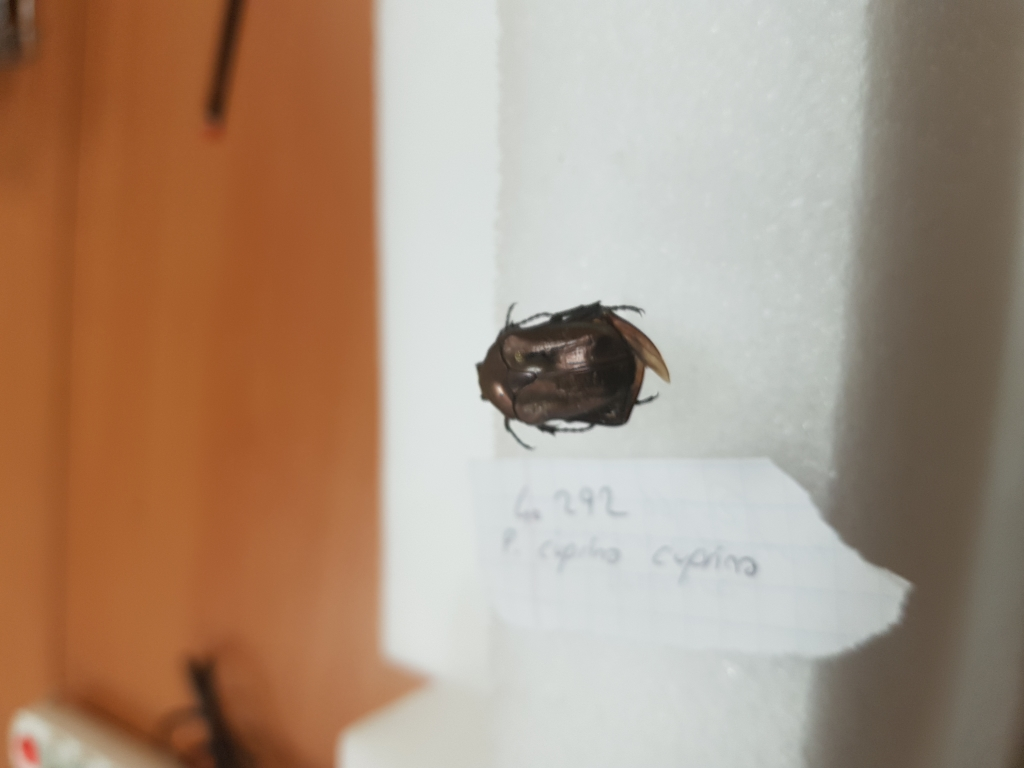Protaetia_cuprina_cuprina: (472, 294, 681, 457)
